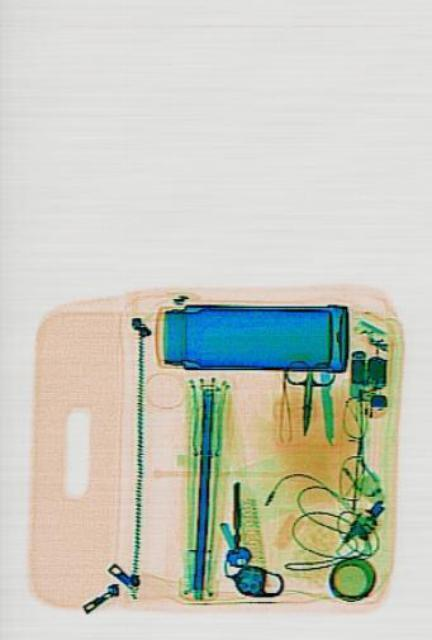Scissors: (278, 356, 333, 439)
